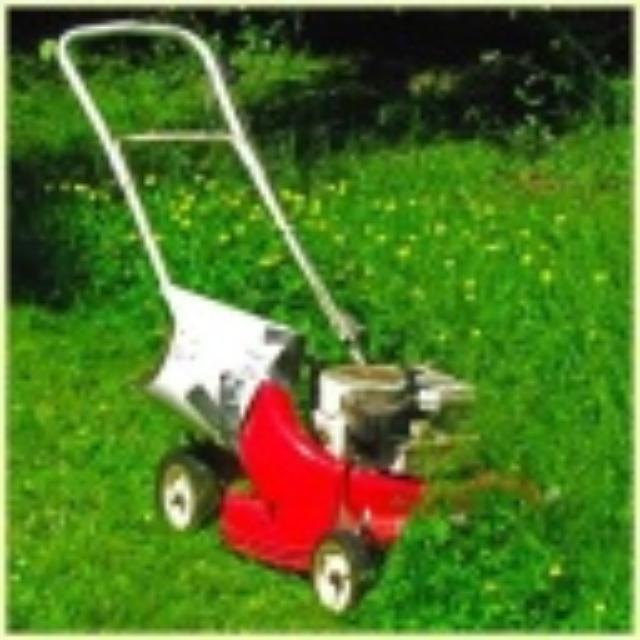Rotary-Mower: (50, 15, 530, 615)
